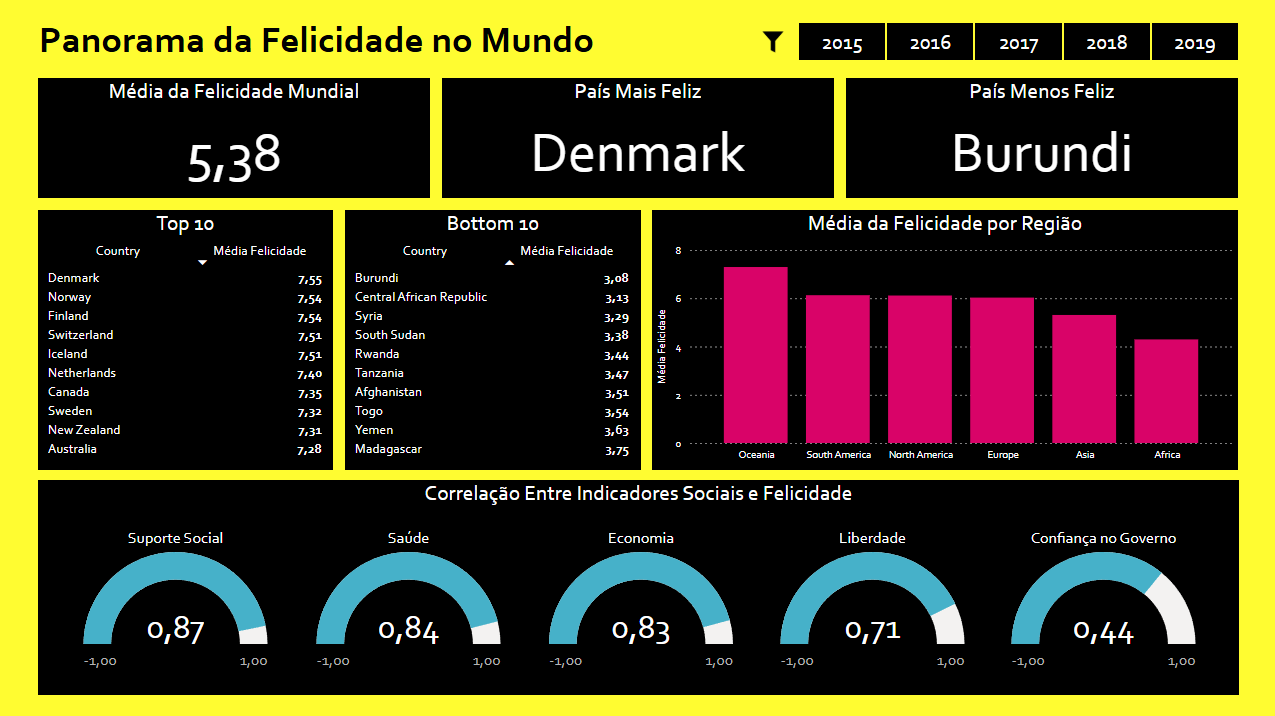

The page's visual inventory and layout, read from the dashboard file:
{"tool":"powerbi","page":{"name":"Dashboard","canvas":[1280,720],"ordinal":0},"visuals":[{"type":"textbox","box":[35.9,12.6,577.3,61.9],"z":0},{"type":"image","box":[759.5,29.6,30.5,28.7],"z":1000},{"type":"slicer","fields":{"Values":["World Happiness.Year"]},"box":[774.8,18,489.3,51.2],"z":2000},{"type":"cardVisual","title":"Média da Felicidade Mundial","fields":{"Data":["World Happiness.Média Felicidade"]},"box":[40.3,80,391.7,120.3],"z":3000},{"type":"cardVisual","title":"País Mais Feliz","fields":{"Data":["World Happiness.Mais Feliz"]},"box":[443.8,80,392.3,120.4],"z":4000},{"type":"cardVisual","title":"País Menos Feliz","fields":{"Data":["World Happiness.Menos Feliz"]},"box":[848.1,80,391.9,120.4],"z":5000},{"type":"pivotTable","title":"Top 10","fields":{"Rows":["World Happiness.Country"],"Values":["World Happiness.Média Felicidade"]},"box":[40.3,211.7,294.5,260],"z":6000},{"type":"pivotTable","title":"Bottom 10","fields":{"Rows":["World Happiness.Country"],"Values":["World Happiness.Média Felicidade"]},"box":[346.9,211.7,296.2,260],"z":7000},{"type":"columnChart","title":"Média da Felicidade por Região","fields":{"Category":["Region.Continent"],"Y":["World Happiness.Média Felicidade"]},"box":[654.4,211.6,585.6,260],"z":8000},{"type":"shape","title":"Correlação Entre Indicadores Sociais e Felicidade","box":[39.9,482.4,1200.6,214.9],"z":9000},{"type":"gauge","fields":{"Y":["Region.Suporte Social"]},"box":[67.4,530,220.4,149.6],"z":10000},{"type":"gauge","fields":{"Y":["Region.Saúde"]},"box":[300,530,221,150],"z":11000},{"type":"gauge","fields":{"Y":["Region.Economia"]},"box":[532.6,530,220.9,150],"z":12000},{"type":"gauge","fields":{"Y":["Region.Liberdade"]},"box":[763.9,530,220.9,150],"z":13000},{"type":"gauge","fields":{"Y":["Region.Confiança no Governo"]},"box":[995.2,530,220.9,150],"z":14000}]}

Visuals, with their boxes in screenshot pixels (x1, y1, x2, y2), scaled from the page's 1280x720 canvas onto the 1275x716 screenshot:
textbox: (36,13,611,74)
image: (757,29,787,58)
slicer - World Happiness.Year: (772,18,1259,69)
"Média da Felicidade Mundial" cardVisual: (40,80,430,199)
"País Mais Feliz" cardVisual: (442,80,833,199)
"País Menos Feliz" cardVisual: (845,80,1235,199)
"Top 10" pivotTable: (40,211,333,469)
"Bottom 10" pivotTable: (346,211,641,469)
"Média da Felicidade por Região" columnChart: (652,210,1235,469)
"Correlação Entre Indicadores Sociais e Felicidade" shape: (40,480,1236,693)
gauge - Region.Suporte Social: (67,527,287,676)
gauge - Region.Saúde: (299,527,519,676)
gauge - Region.Economia: (531,527,751,676)
gauge - Region.Liberdade: (761,527,981,676)
gauge - Region.Confiança no Governo: (991,527,1211,676)
